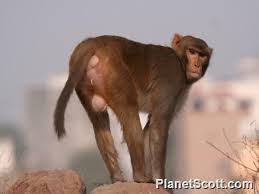monkey: (44, 24, 238, 181)
